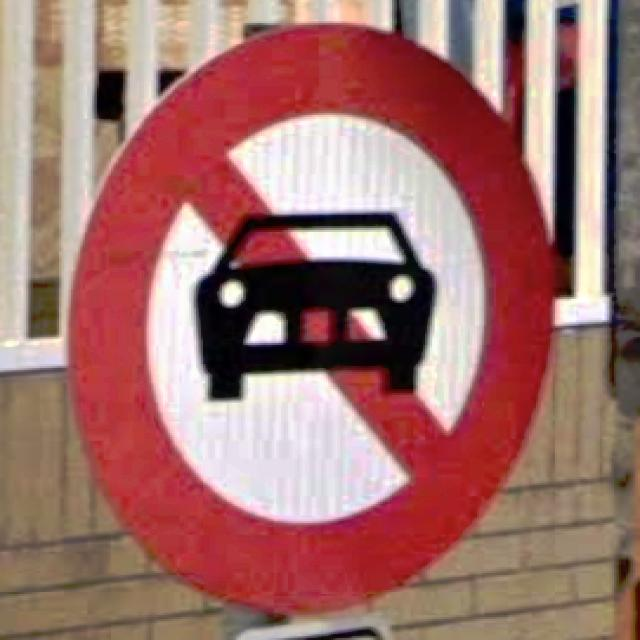nocar: (66, 23, 557, 621)
